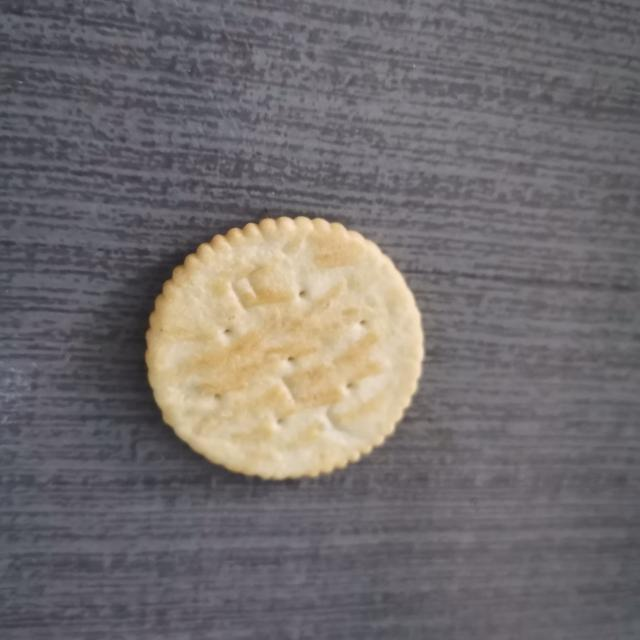Intact: (136, 200, 441, 499)
